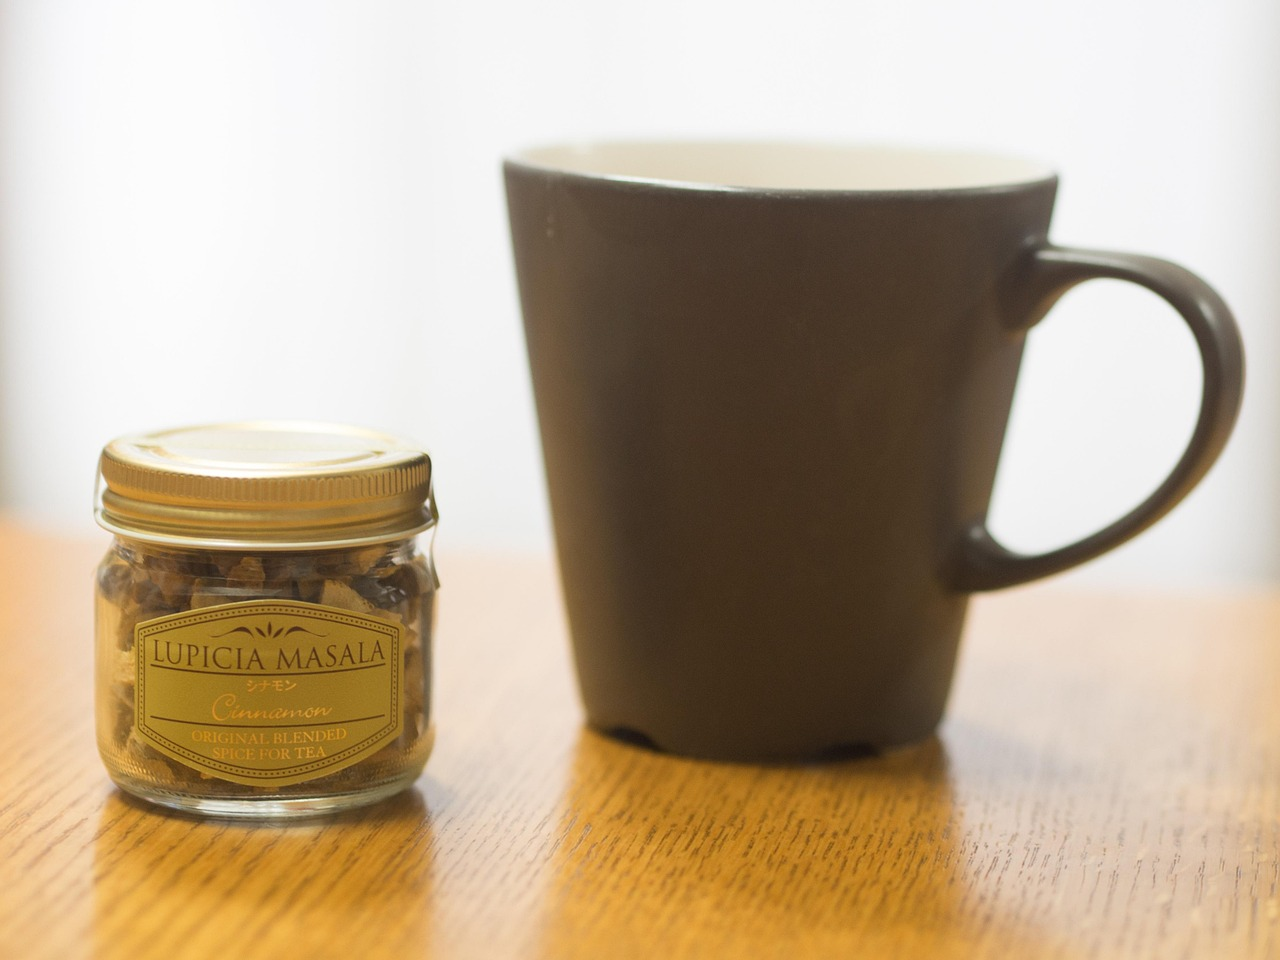mug: (464, 95, 1252, 763)
